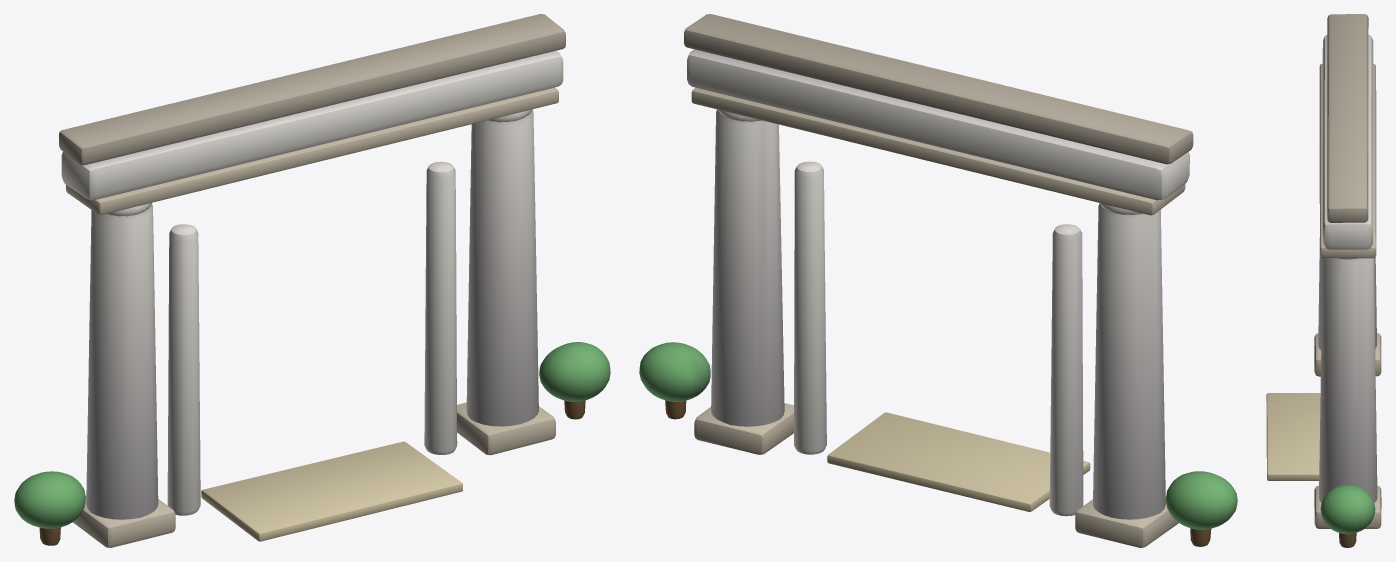
The picture shows the model from 3 angles, left to right: view 1: azimuth 30°, elevation 25°; view 2: azimuth 150°, elevation 25°; view 3: azimuth 270°, elevation 25°; orthographic projection. The views are drawn at different scales.
Visible parts, largest first — view 1: gate_e72f65cf; view 2: gate_e72f65cf; view 3: gate_e72f65cf.
Part boxes in pixels (left/top/right/bottom): gate_e72f65cf: left=14, top=14, right=610, bottom=547; gate_e72f65cf: left=639, top=14, right=1237, bottom=547; gate_e72f65cf: left=1266, top=14, right=1381, bottom=547.
Size of the model in its own units: 6.91 by 4.51 by 1.42.
